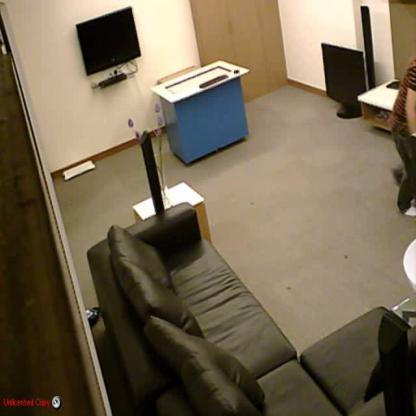Person: (390, 56, 416, 216)
